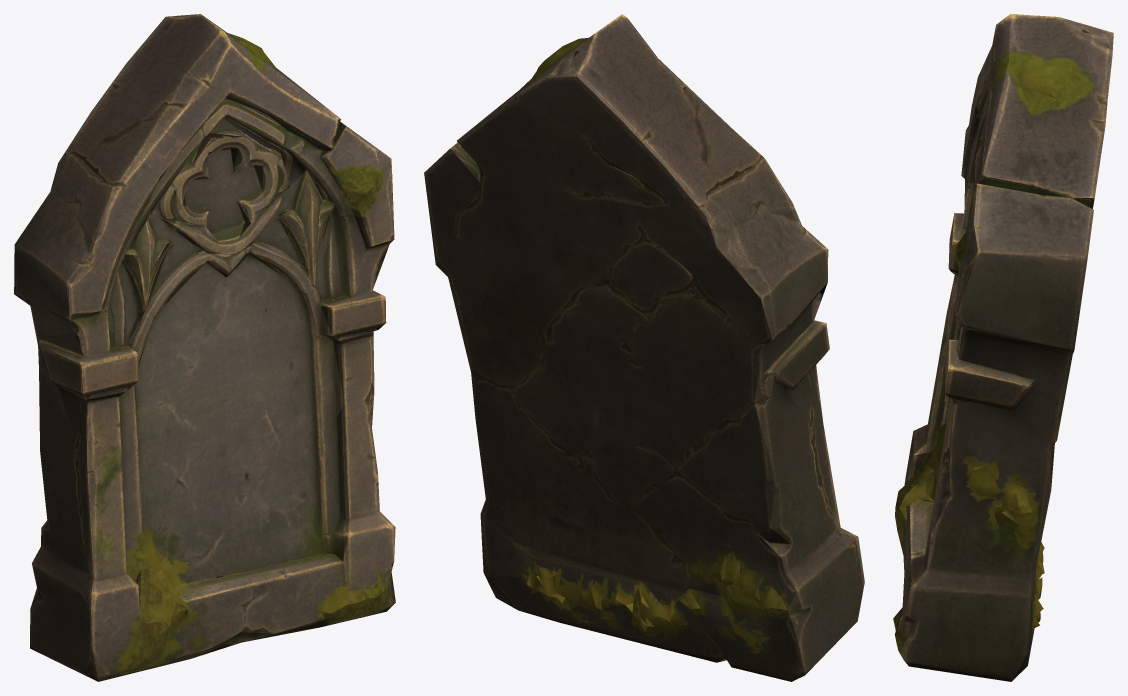
File: tombstone_c.glb
The picture shows the model from 3 angles, left to right: view 1: azimuth 30°, elevation 25°; view 2: azimuth 150°, elevation 25°; view 3: azimuth 270°, elevation 25°; orthographic projection. The views are drawn at different scales.
Visible parts, largest first — view 1: low; view 2: low; view 3: low.
Boxes of the visible parts, bbox=[...] form: low: bbox=[14, 14, 395, 681]; low: bbox=[424, 14, 864, 681]; low: bbox=[893, 14, 1113, 681].
Bounding box in the file's own units: 0.6 × 1 × 0.3285.
1 material, 1 textured.
